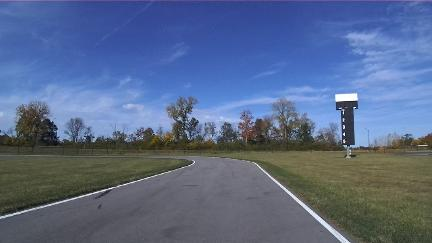Grass: (213, 153, 431, 242), (0, 157, 191, 214)
Lane: (0, 157, 340, 242)
